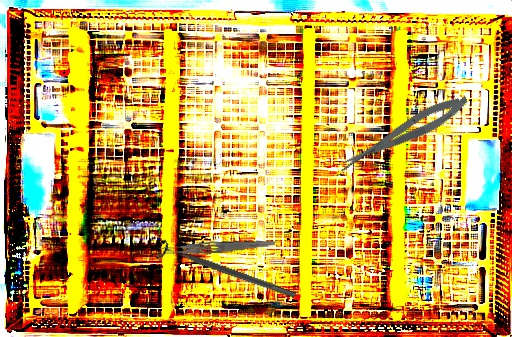Dressing Forceps: (156, 234, 276, 259)
Fixation Ring: (155, 238, 299, 306)
Micro Scissor: (333, 89, 473, 177)
